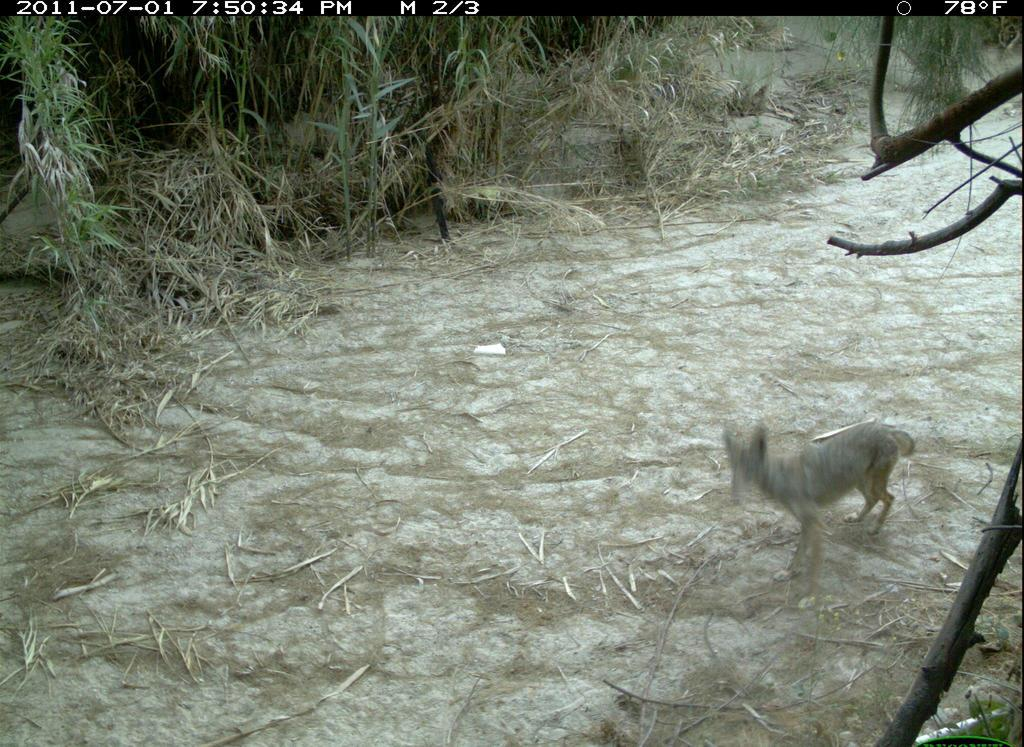coyote: (705, 410, 925, 591)
